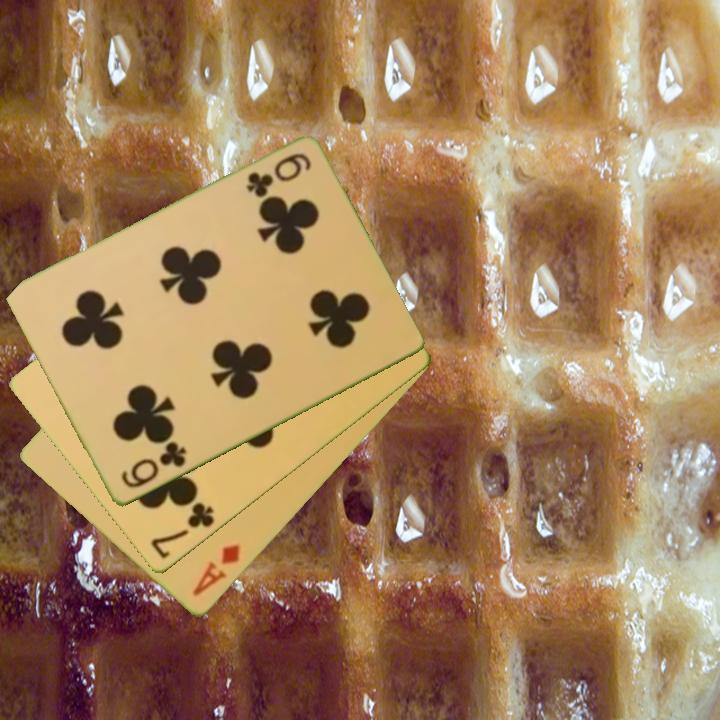6c: (117, 438, 189, 492), (242, 150, 314, 200)
7c: (147, 499, 218, 562)
Ad: (188, 541, 243, 600)
